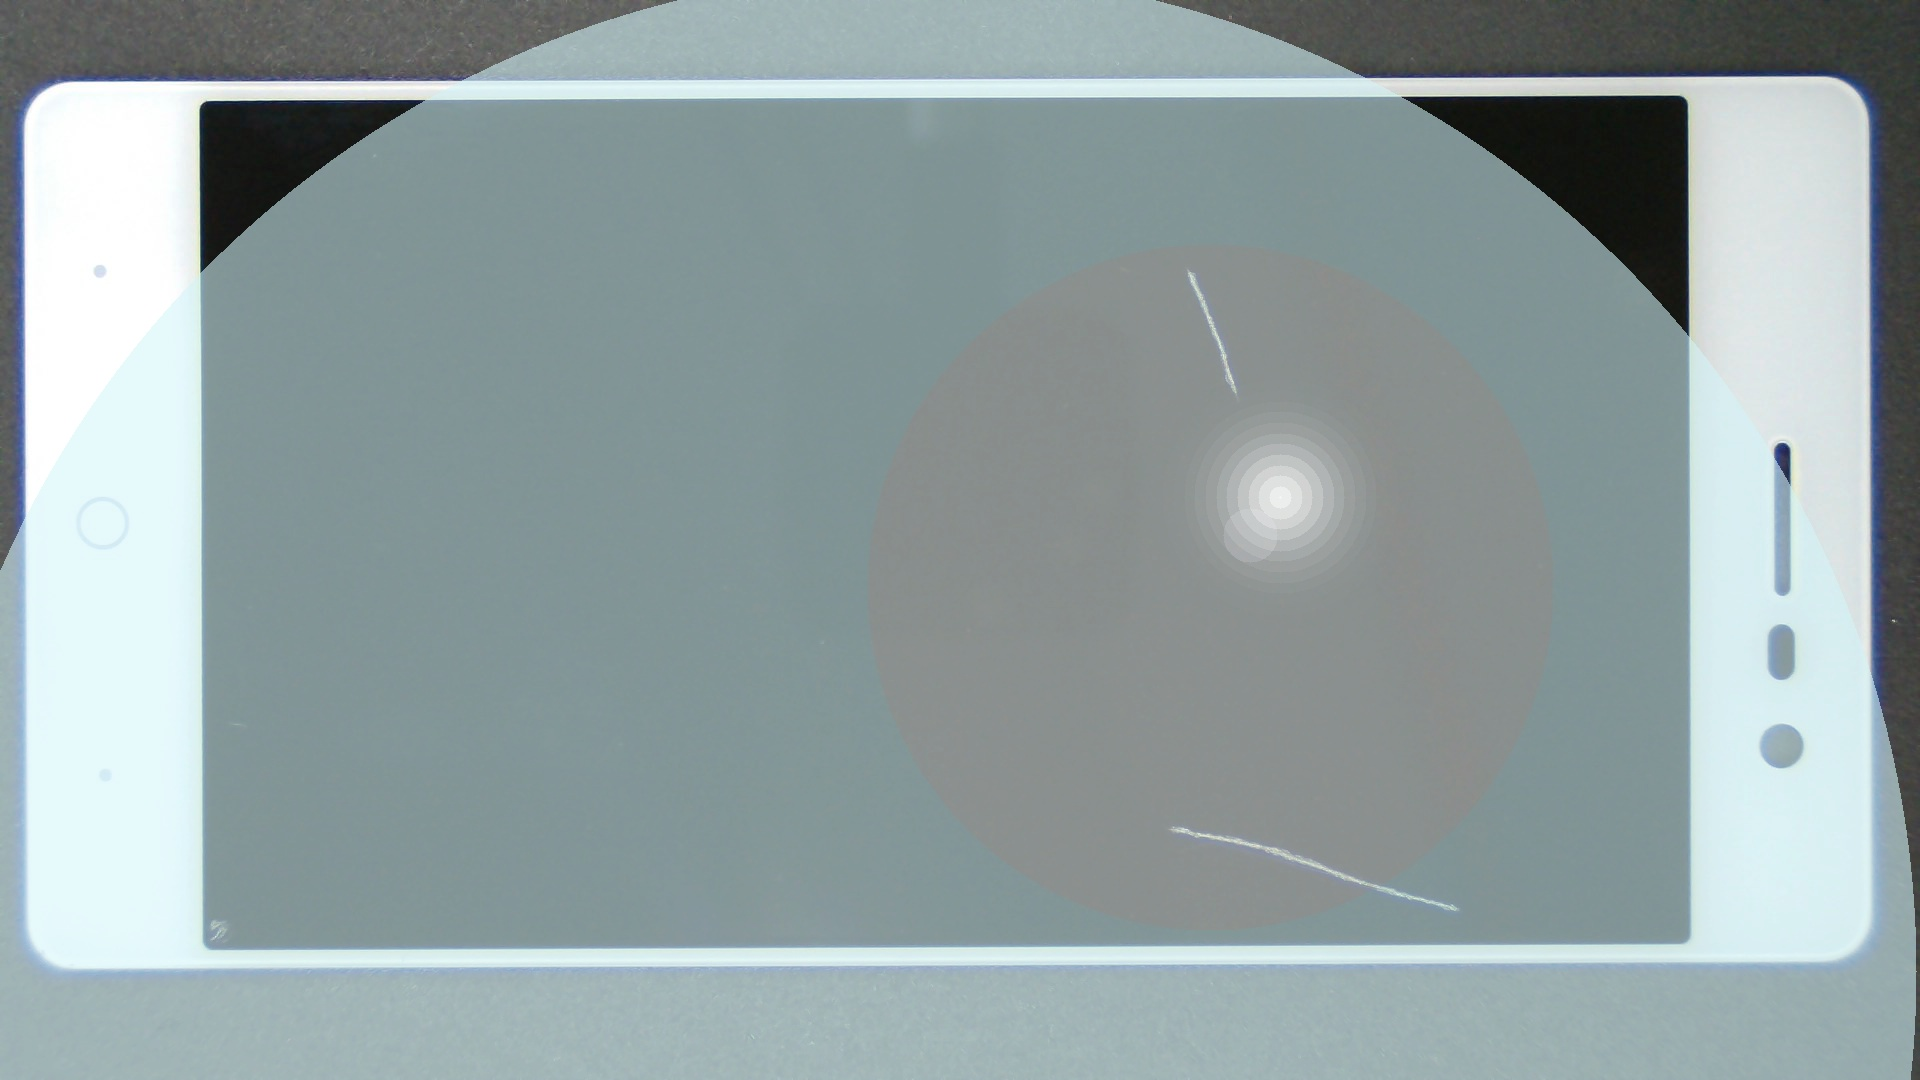oil: (589, 411, 1764, 1080), (593, 133, 1780, 401), (108, 458, 319, 1080)
